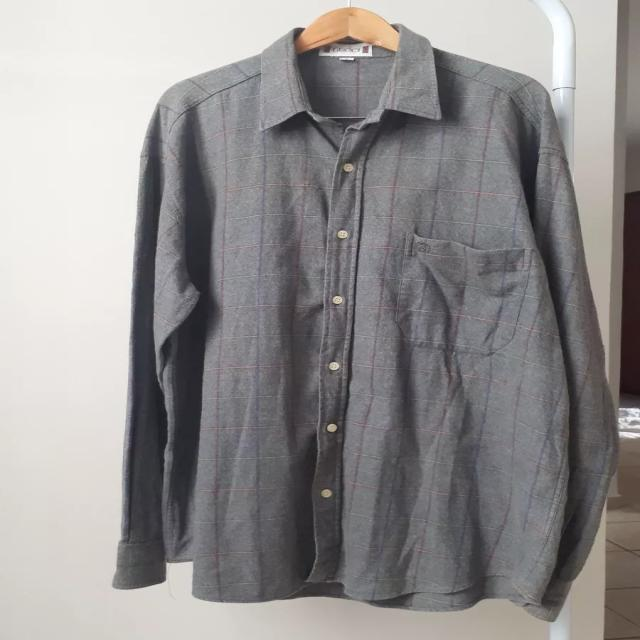long sleeve shirt: (112, 20, 620, 623)
